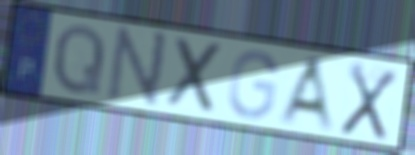A: (274, 54, 339, 137)
G: (225, 47, 281, 122)
N: (103, 24, 172, 112)
Q: (49, 21, 108, 96)
X: (336, 59, 400, 143), (164, 34, 228, 117)
